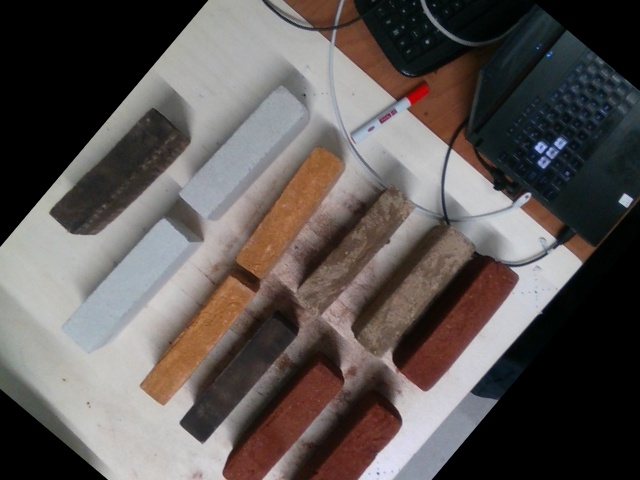brick-side: (46, 107, 176, 237), (177, 86, 305, 218), (62, 219, 188, 353), (400, 258, 518, 396), (176, 313, 298, 446), (353, 230, 474, 359), (293, 189, 412, 316), (218, 361, 346, 479), (139, 275, 253, 407), (231, 148, 344, 280), (280, 400, 404, 479)
